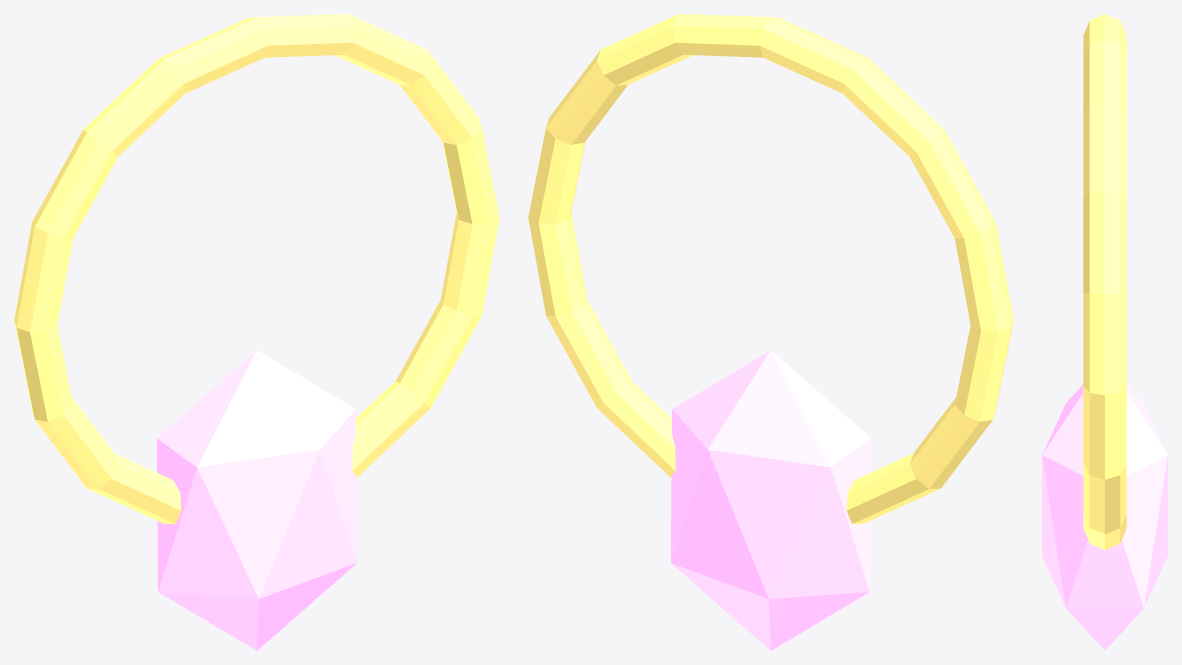
Rendered from amulet.glb.
3 renders of one model, left to right at view 1: azimuth 30°, elevation 25°; view 2: azimuth 150°, elevation 25°; view 3: azimuth 270°, elevation 25°, orthographic. The views are drawn at different scales.
Visible parts, largest first — view 1: AmuletChain; view 2: AmuletChain; view 3: AmuletChain.
Part boxes in pixels (left/top/right/bottom): AmuletChain: left=14, top=14, right=499, bottom=650; AmuletChain: left=528, top=14, right=1013, bottom=650; AmuletChain: left=1042, top=14, right=1167, bottom=650.
Size of the model in its own units: 0.87 by 1.09 by 0.2042.
